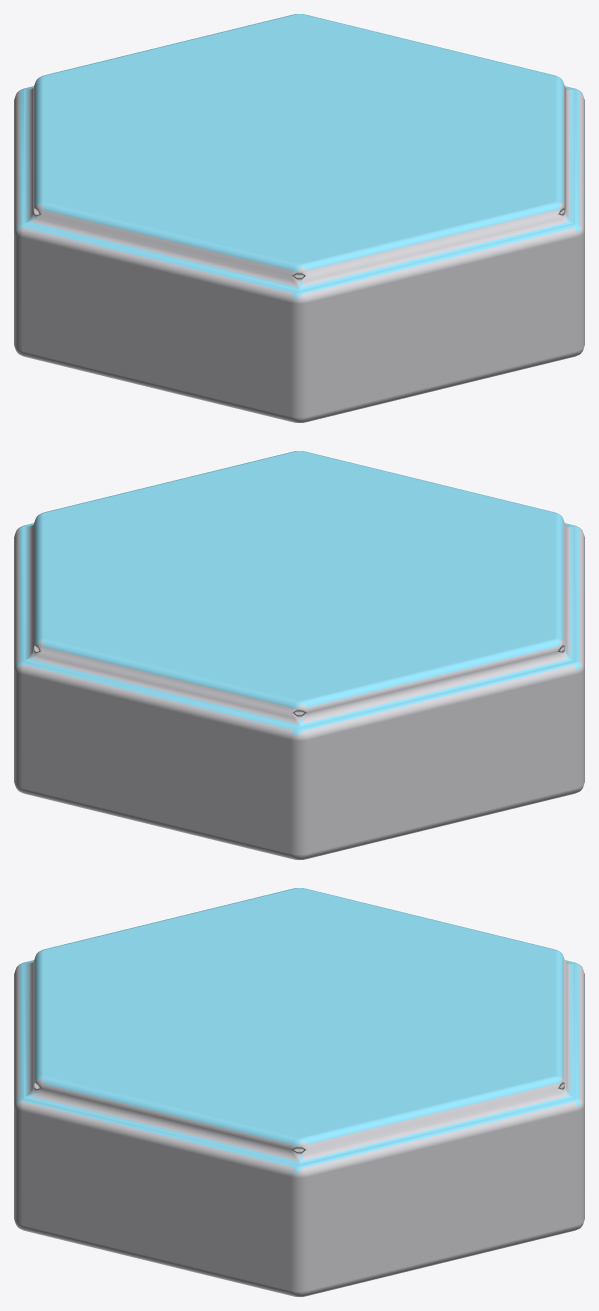
Rendered from hex.glb.
The picture shows the model from 3 angles, top to bottom: view 1: azimuth 30°, elevation 25°; view 2: azimuth 150°, elevation 25°; view 3: azimuth 270°, elevation 25°; orthographic projection.
Parts seen in each view (by area): view 1: HexTile; view 2: HexTile; view 3: HexTile.
Part boxes in pixels (x1,y1,x2,y2): HexTile: [14, 14, 584, 422]; HexTile: [14, 451, 584, 859]; HexTile: [14, 888, 584, 1296].
Size of the model in its own units: 1.98 by 0.5 by 1.73.
